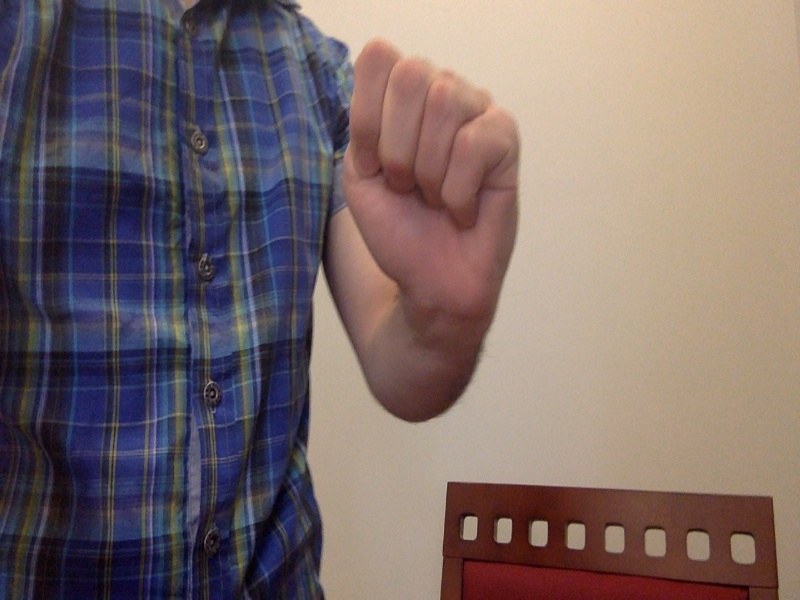0-hand: (339, 40, 523, 329)
